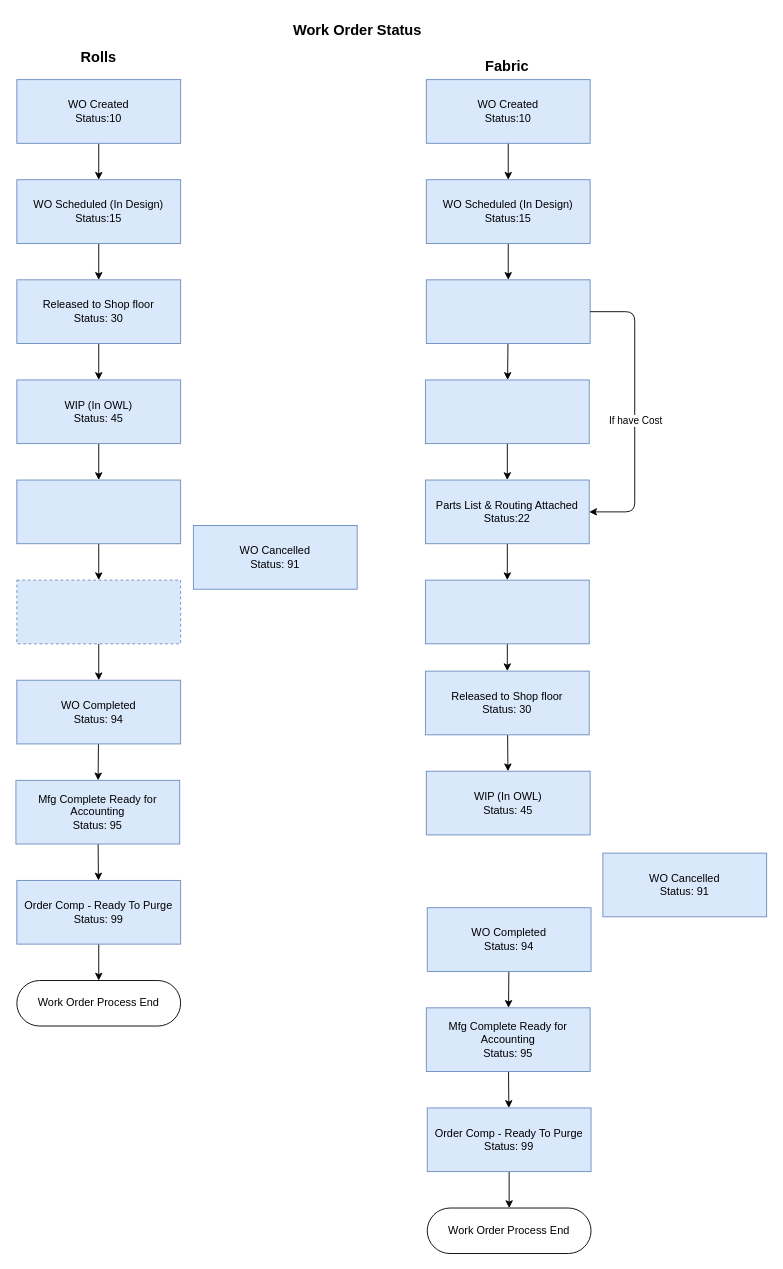
The diagram is 783 pixels wide and 1269 high, and some of its shapes have lost their labels. Here are the shapes that lost their labels. From the top down, the centre of each, then its label:
pixel 507 311: Designed/Awaiting PDM Status:16
pixel 507 411: Designed / PDM Updated Status:19
pixel 98 511: WO Completed (In OWL) Status: 85
pixel 98 611: Optional WO Completed (PE Review) Status: 93
pixel 507 611: (Forming) 51 linked to 00 Status:27
